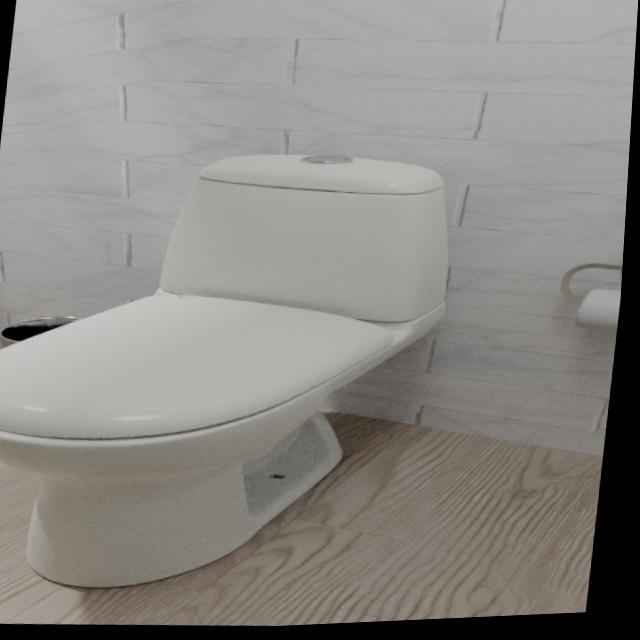toilet: (0, 134, 466, 610)
